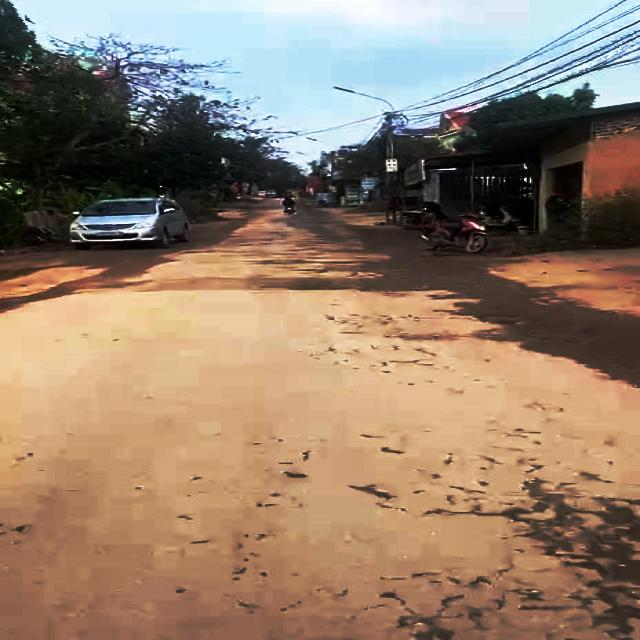pothole: (496, 484, 640, 640), (470, 312, 527, 330)
